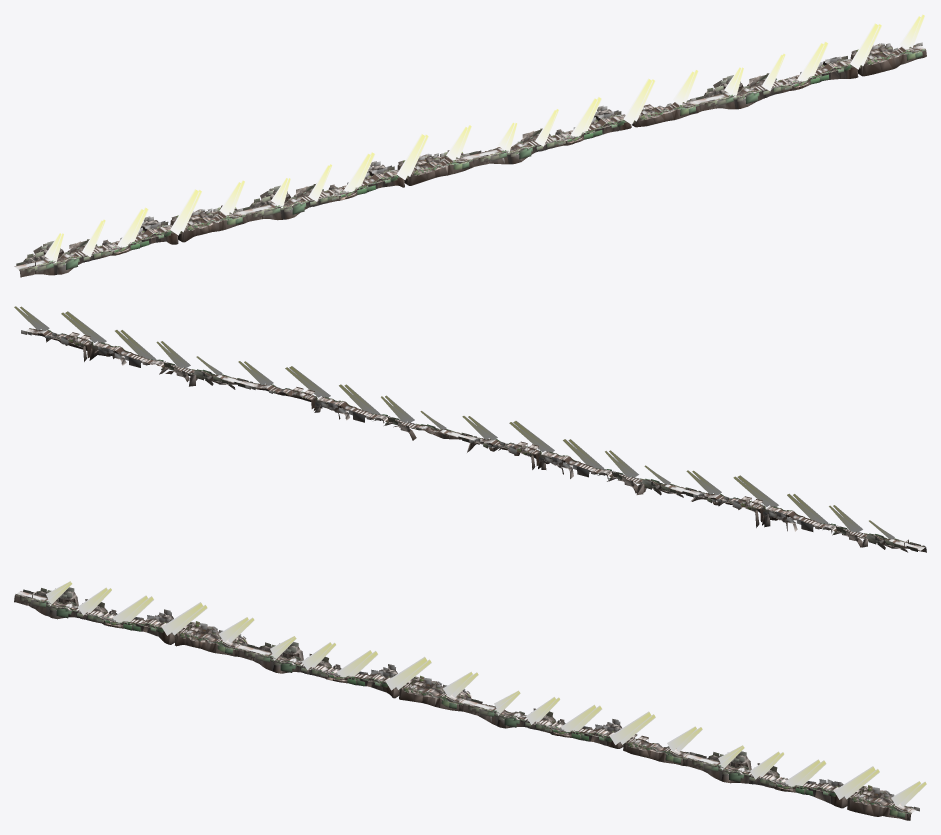
Rendered from Forest_09.fbx.
3 views of the same model, one above another, from view 1: azimuth 30°, elevation 25°; view 2: azimuth 150°, elevation 25°; view 3: azimuth 330°, elevation 25° (orthographic).
Parts seen in each view (by area): view 1: Mountain_04, Light_01, Tree_01_A, Ground_03; view 2: Light_01, Tree_01_A, Ground_03, Mountain_04, Leak_A; view 3: Mountain_04, Light_01, Tree_01_A, Ground_03, Leak_A.
Boxes of the visible parts, <box> form: Mountain_04: <box>19,43,926,277</box>; Light_01: <box>44,14,924,263</box>; Tree_01_A: <box>16,42,925,272</box>; Ground_03: <box>14,45,924,269</box>; Light_01: <box>14,306,894,539</box>; Tree_01_A: <box>21,328,925,551</box>; Ground_03: <box>26,328,924,550</box>; Mountain_04: <box>30,328,926,552</box>; Leak_A: <box>31,329,896,540</box>; Mountain_04: <box>14,591,911,820</box>; Light_01: <box>46,581,926,806</box>; Tree_01_A: <box>15,587,919,818</box>; Ground_03: <box>17,591,916,812</box>; Leak_A: <box>45,600,911,811</box>.
Size of the model in its own units: 156799 by 7427 by 4892.
